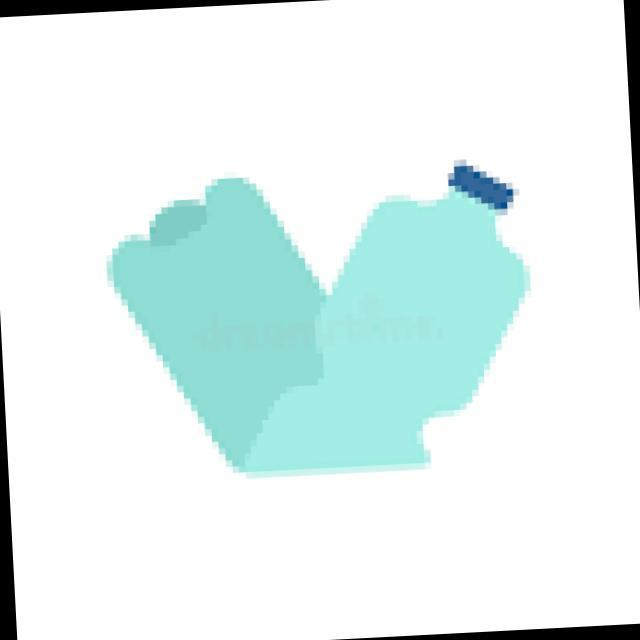defected: (75, 128, 553, 516)
